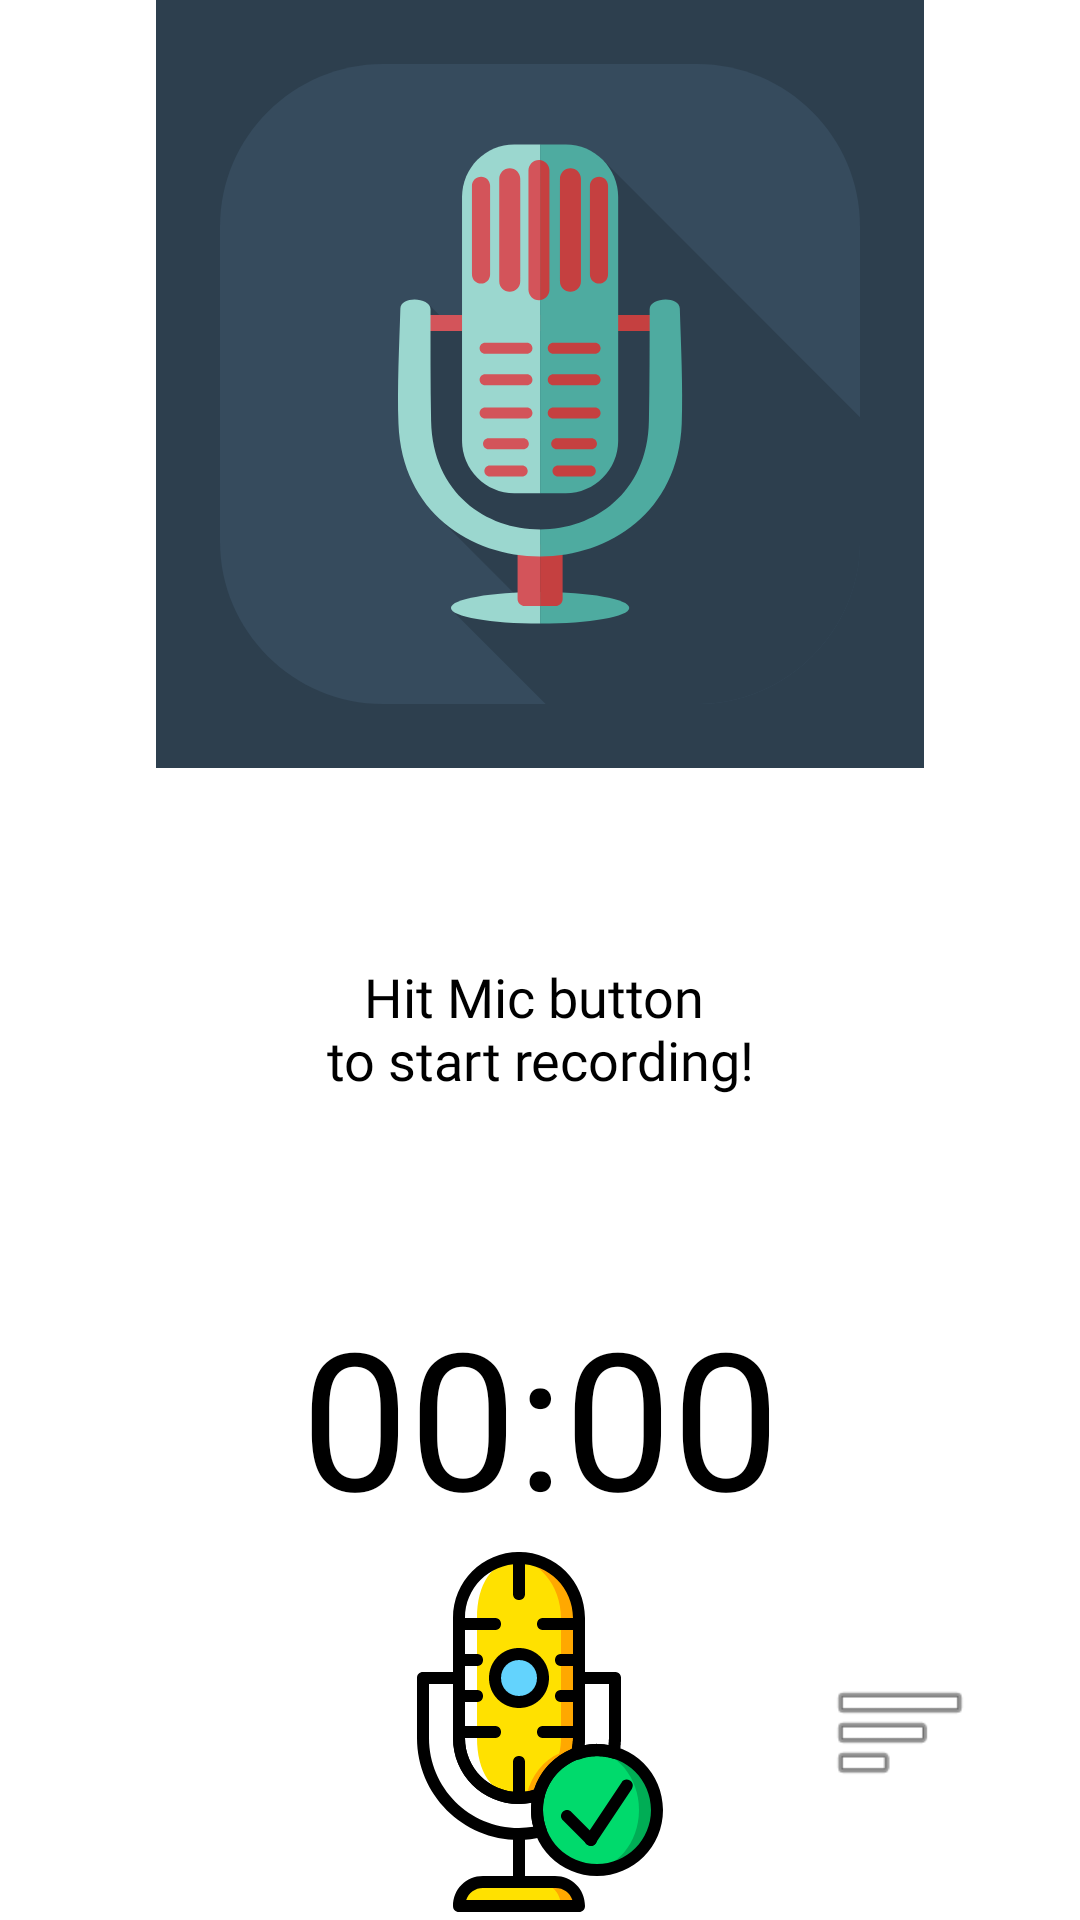

Screen size 1080×1920. Icon name, then its box in pixels as (x1, y1, x2, y2):
record start: (417, 1552, 663, 1912)
sort by size: (838, 1692, 962, 1773)
